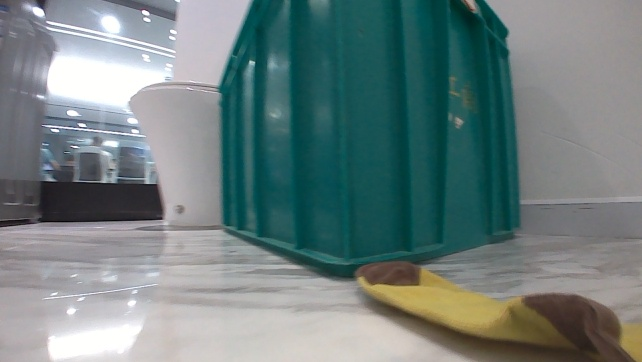socks: (352, 254, 641, 361)
toilet: (123, 71, 223, 228)
